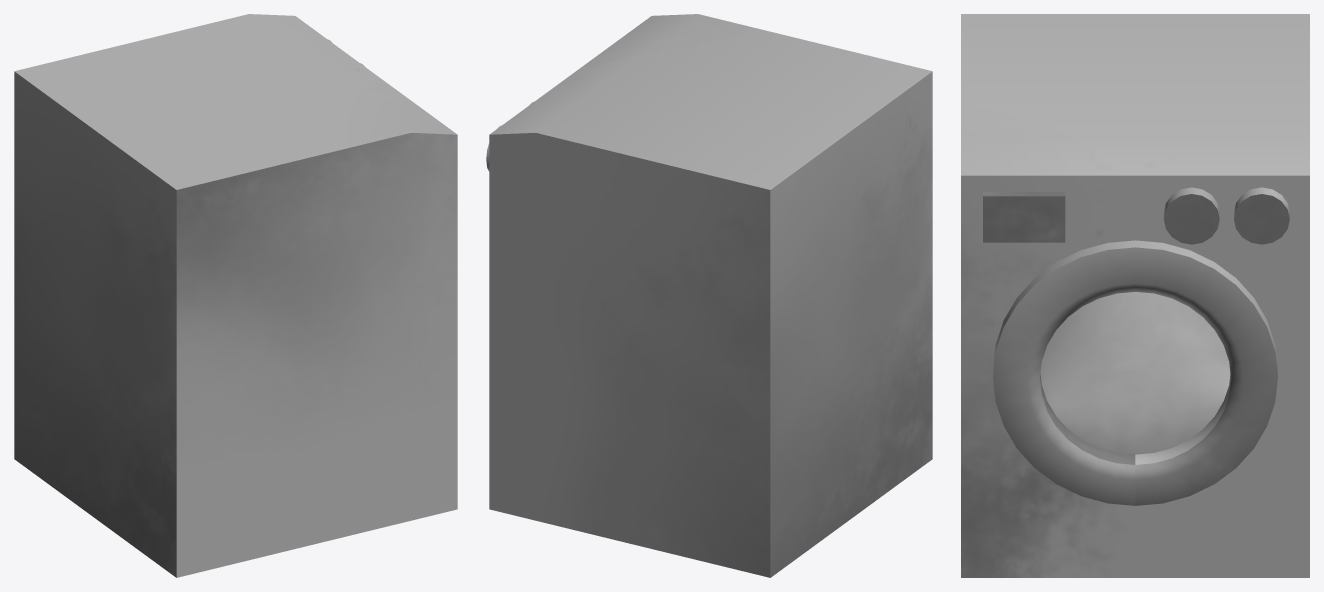
The model's file is laundryWMoney_sp.gltf.
3 views of the same model, side by side, from view 1: azimuth 30°, elevation 25°; view 2: azimuth 150°, elevation 25°; view 3: azimuth 270°, elevation 25° (orthographic). The views are drawn at different scales.
Visible parts, largest first — view 1: Cube; view 2: Cube; view 3: Cube, Cube.004.
Boxes of the visible parts, left/top/right/bottom form: Cube: left=14, top=14, right=457, bottom=577; Cube: left=486, top=14, right=932, bottom=577; Cube: left=961, top=14, right=1309, bottom=577; Cube.004: left=1040, top=292, right=1230, bottom=454.
Size of the model in its own units: 0.7382 by 0.9 by 0.6826.
